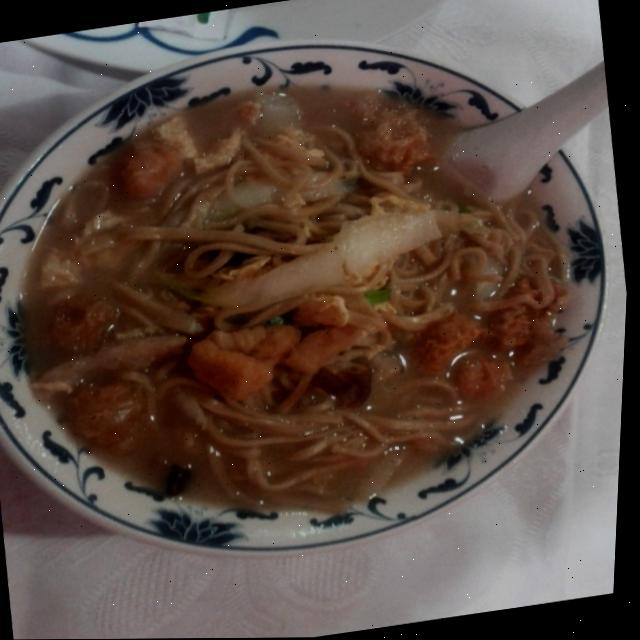面条主食: (0, 0, 632, 559)
